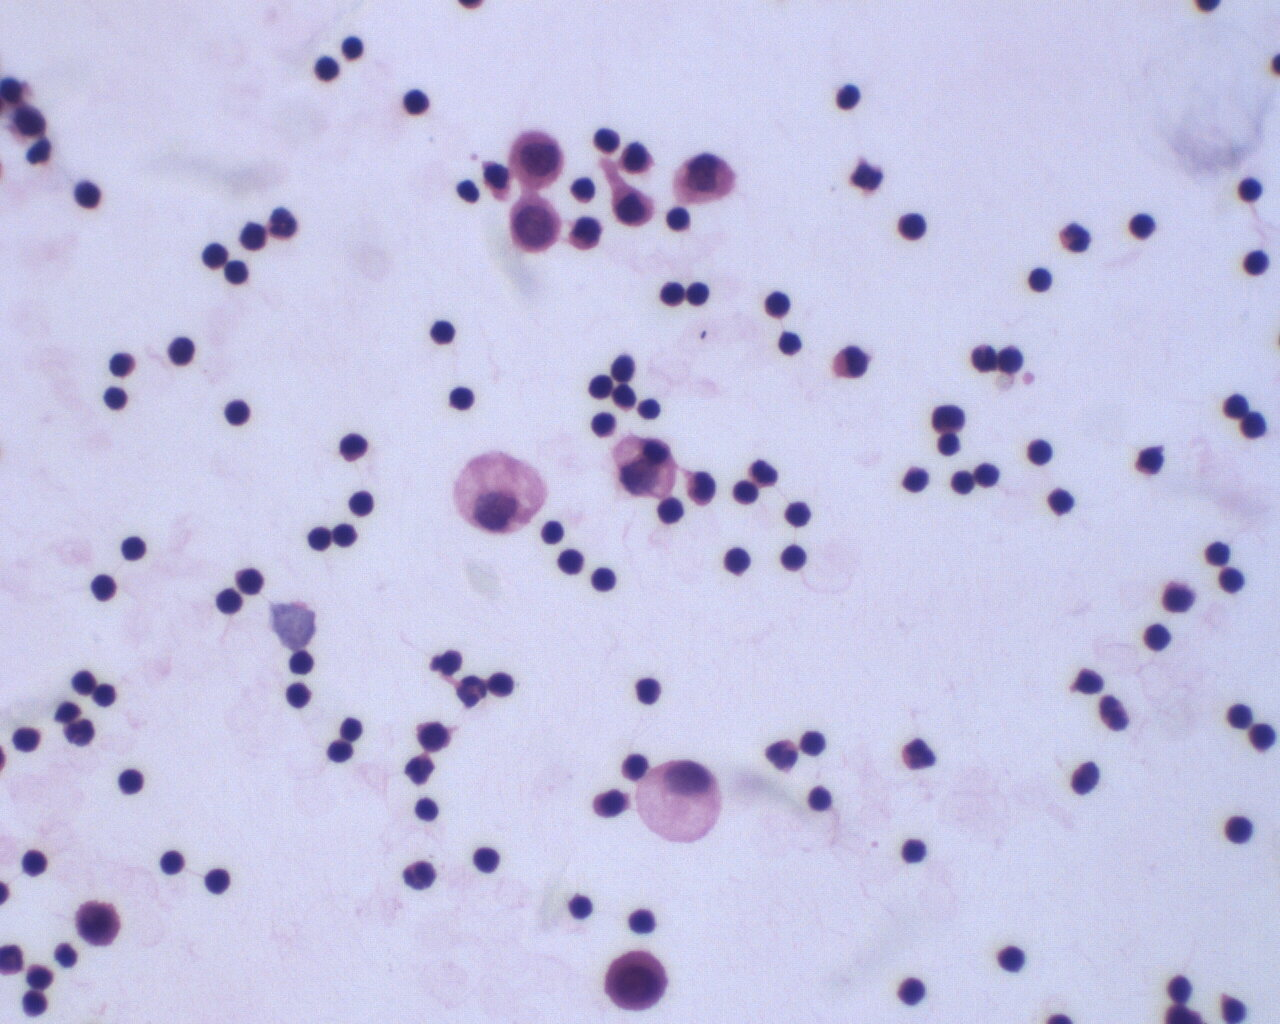ab: (604, 941, 673, 1016), (504, 190, 567, 260), (505, 127, 569, 194), (74, 894, 125, 952)
histo: (448, 449, 550, 540), (638, 751, 725, 850)
lymph: (66, 171, 106, 216), (469, 838, 504, 883), (111, 766, 152, 802), (1221, 808, 1255, 851), (774, 540, 813, 577), (1237, 245, 1275, 280), (893, 974, 931, 1009), (219, 395, 255, 433), (397, 86, 435, 121), (761, 285, 795, 323), (201, 862, 235, 899), (1126, 207, 1160, 245), (895, 209, 931, 243), (157, 847, 189, 885), (166, 331, 197, 370), (586, 560, 619, 597), (634, 673, 667, 709), (1141, 618, 1173, 654), (113, 533, 149, 565), (427, 316, 464, 348), (996, 341, 1028, 377), (898, 833, 931, 867), (1021, 438, 1057, 469), (346, 486, 379, 519)
neutro: (452, 669, 497, 713), (399, 855, 445, 895), (897, 730, 939, 773), (759, 738, 800, 779), (1055, 218, 1097, 260), (1096, 691, 1133, 734), (264, 204, 299, 245), (60, 715, 95, 751), (404, 749, 438, 787), (745, 458, 779, 493)
